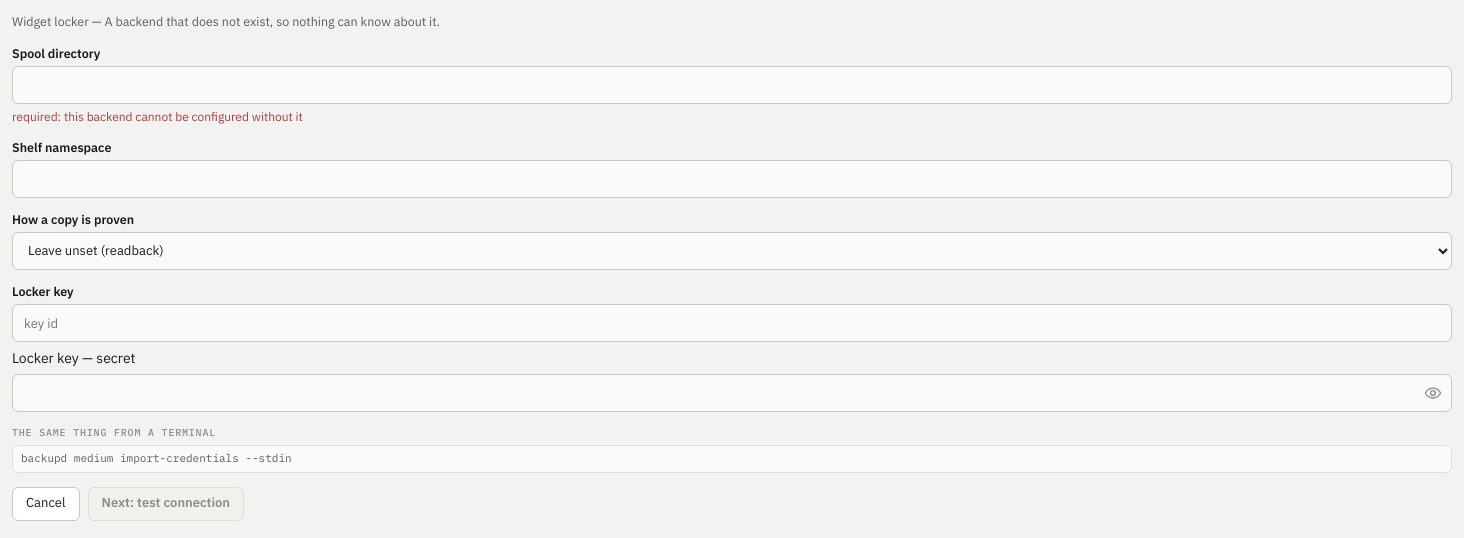
Test case: the check › renders the manifest's declared skip and its reason, not just a verdict
Expected: the element with test id "manifest-field-row-path" is shown, [12,44,1452,126]
Type "/mnt/lockers" into the field with test id "manifest-field-control" showing "Spool directory".
click(732, 85); type("/mnt/lockers")  # box [12,66,1452,104]
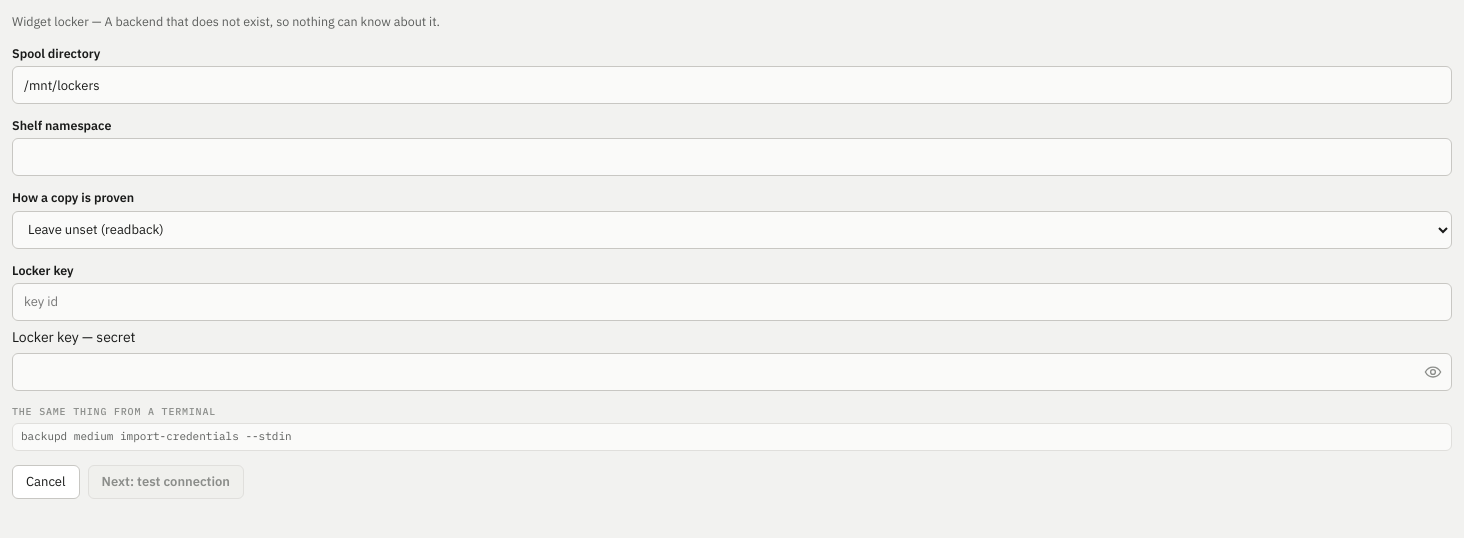
Type "widgets/2026" into the field labelled "Shelf namespace".
click(732, 157); type("widgets/2026")  # box [12,138,1452,176]
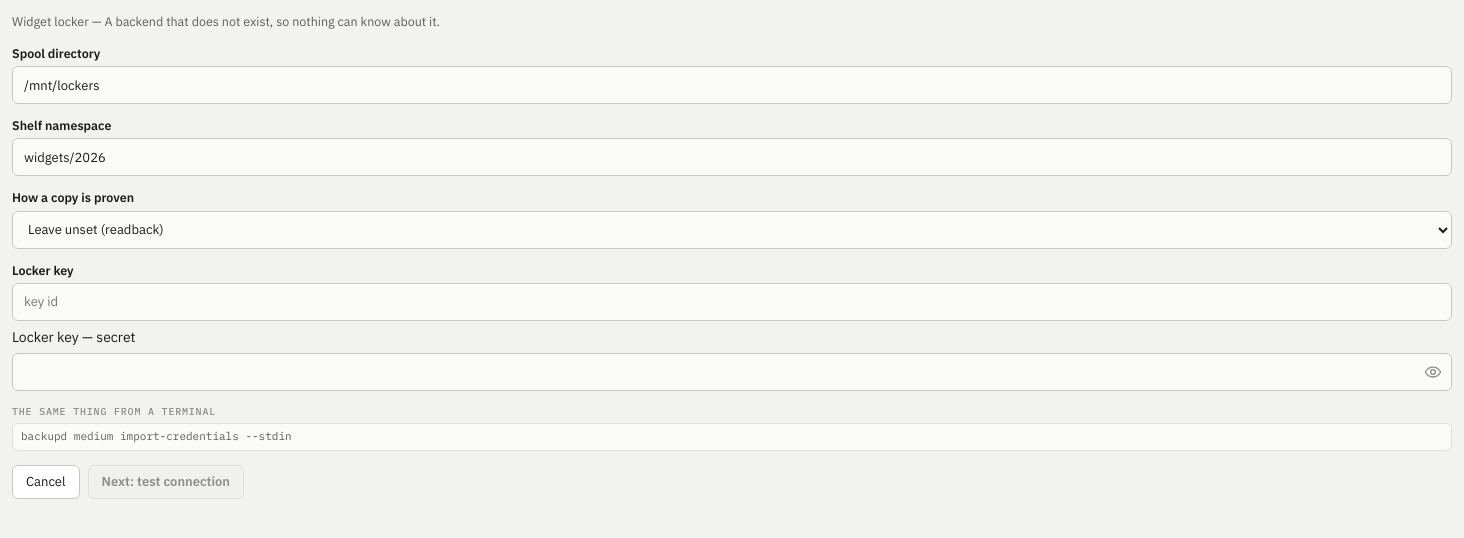
Type "EXAMPLE-NOT-A-REAL-KEY" into the field labelled "Locker key".
click(732, 302); type("EXAMPLE-NOT-A-REAL-KEY")  # box [12,283,1452,321]
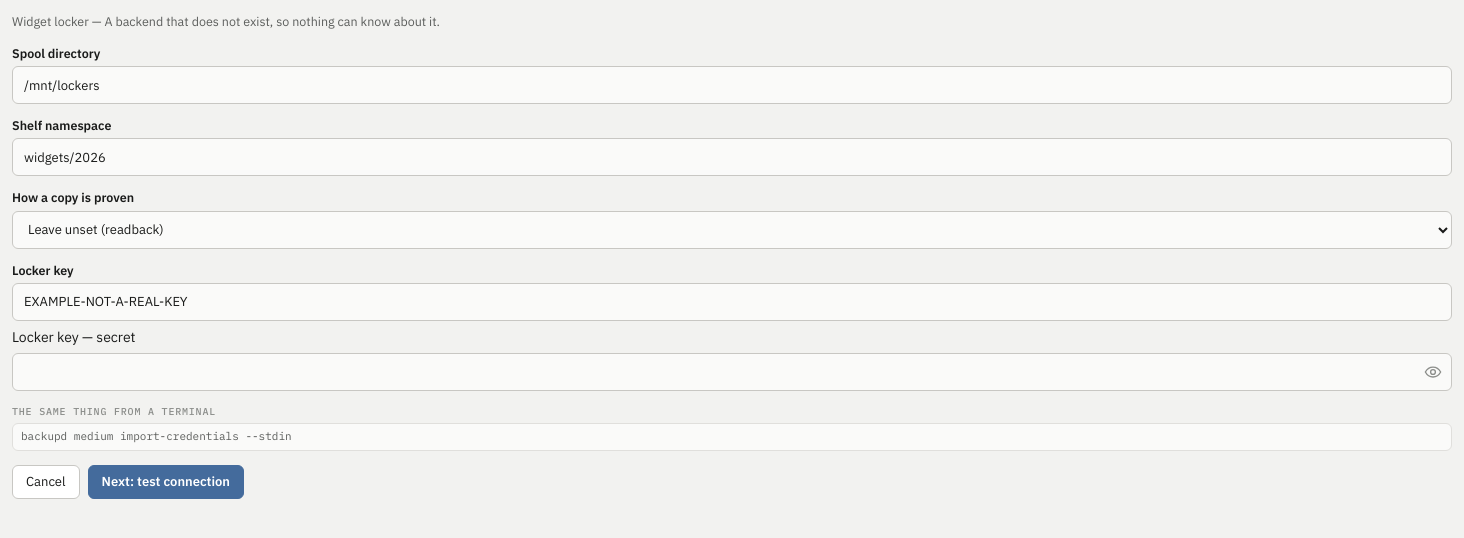
Type "CANARY-669-configure-8b21f0ac-DO-NOT-SEND" into the password field labelled "Locker key — secret".
click(732, 372); type("CANARY-669-configure-8b21f0ac-DO-NOT-SEND")  # box [12,353,1452,391]
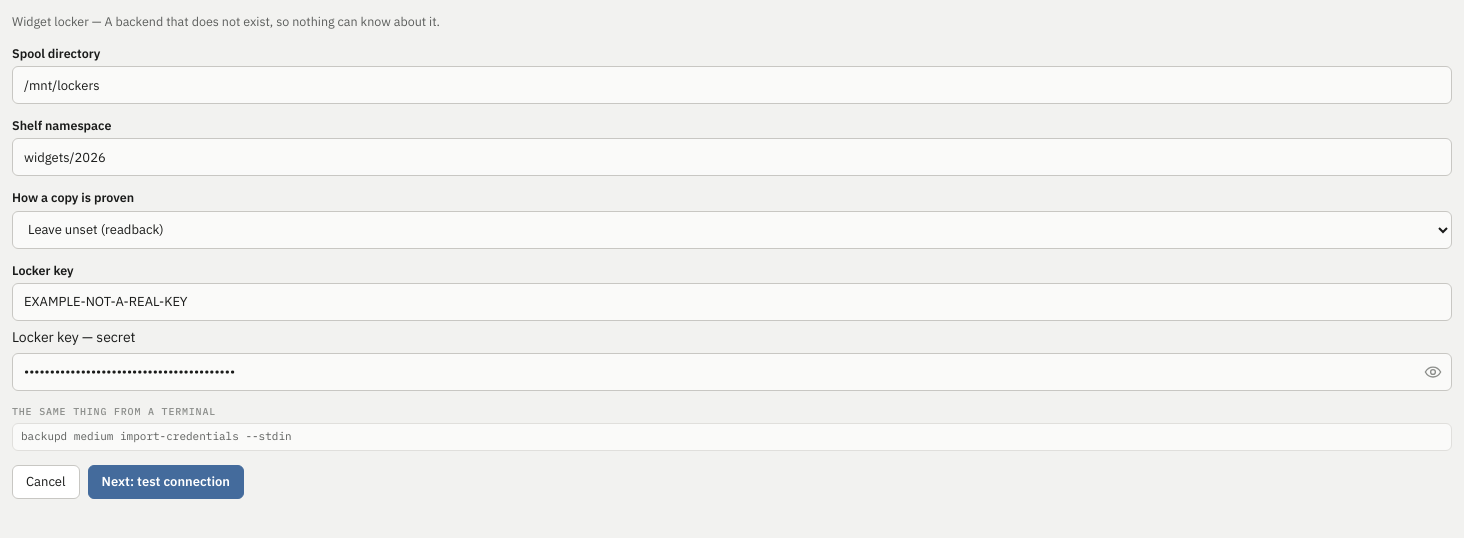
Expected: the button "Next: test connection" is enabled
Click the button "Next: test connection".
click(166, 482)  # box [88,465,244,499]
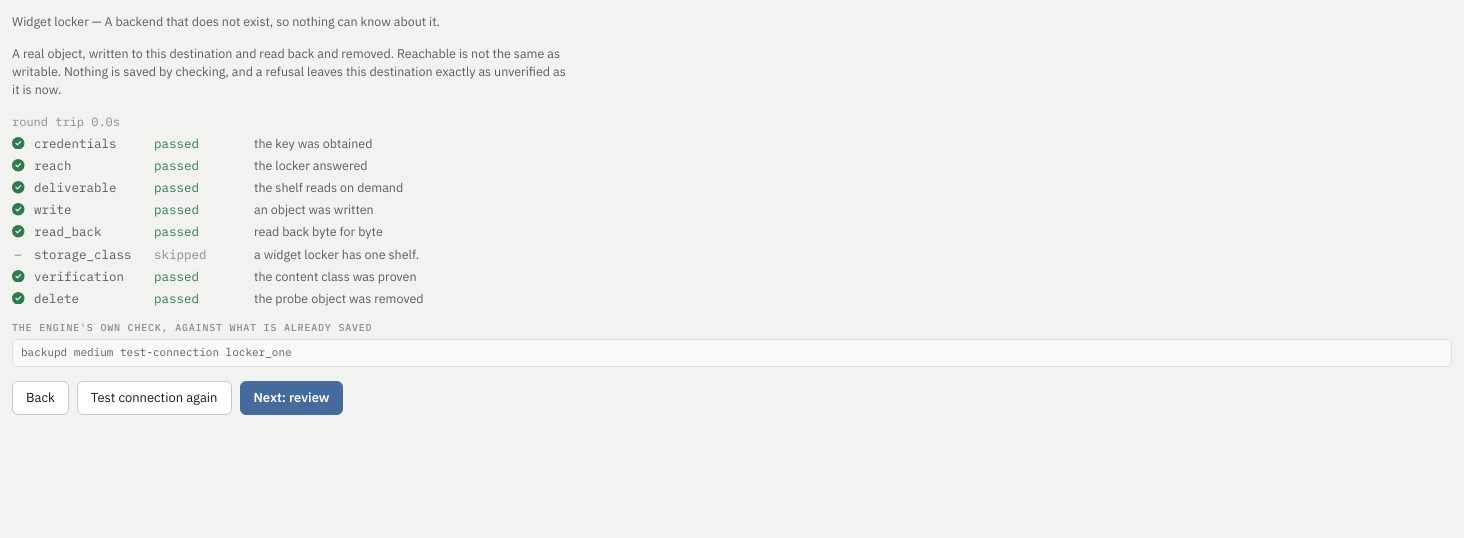
Expected: the text with test id "probe-step-outcome" next to "an object was written" reads "passed", [154,201,199,217]
Expected: the text with test id "probe-step-outcome" reads "skipped", [154,246,206,262]
Expected: the text "a widget locker has one shelf." is shown, [254,246,419,262]
